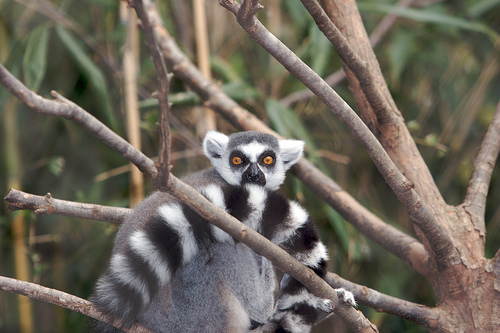cat: (95, 130, 354, 331)
